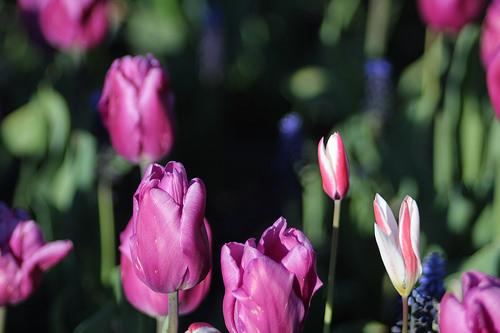tulip: (222, 215, 323, 333), (128, 163, 210, 290), (100, 54, 176, 162), (373, 190, 421, 295)
